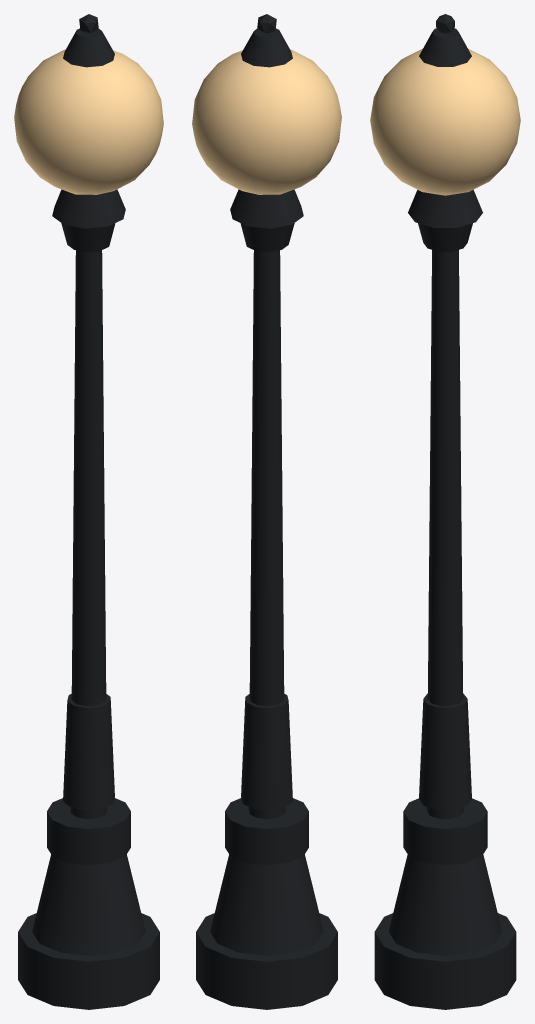
File: lamp.fbx
3 views of the same model, side by side, from view 1: azimuth 30°, elevation 25°; view 2: azimuth 150°, elevation 25°; view 3: azimuth 270°, elevation 25° (orthographic).
Parts seen in each view (by area): view 1: lamp; view 2: lamp; view 3: lamp.
Boxes of the visible parts, box(x1,y1,x2,y2) form: lamp: box(14, 14, 163, 1009); lamp: box(192, 14, 341, 1009); lamp: box(370, 14, 520, 1009).
Size of the model in its own units: 0.68 by 4.81 by 0.68.
